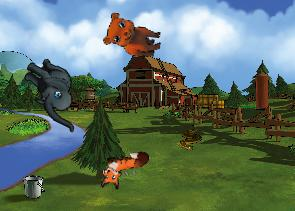bear: (102, 11, 164, 58)
elephant: (9, 52, 96, 133)
fox: (96, 149, 152, 191)
